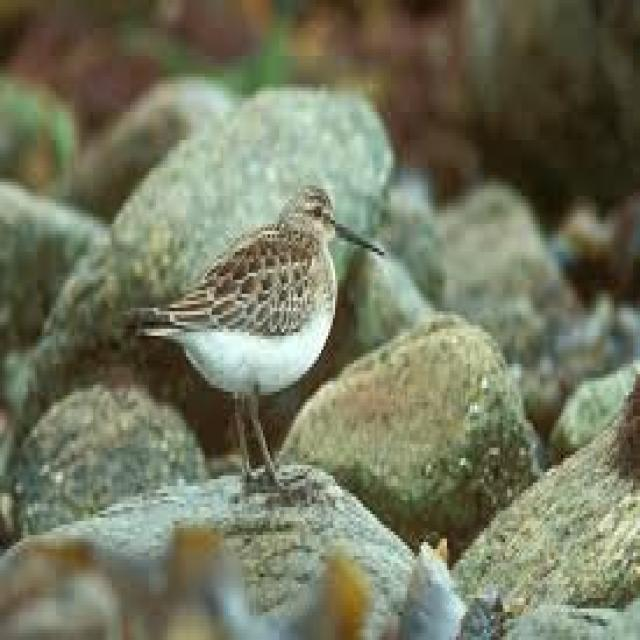Sandpiper: (150, 164, 387, 496)
